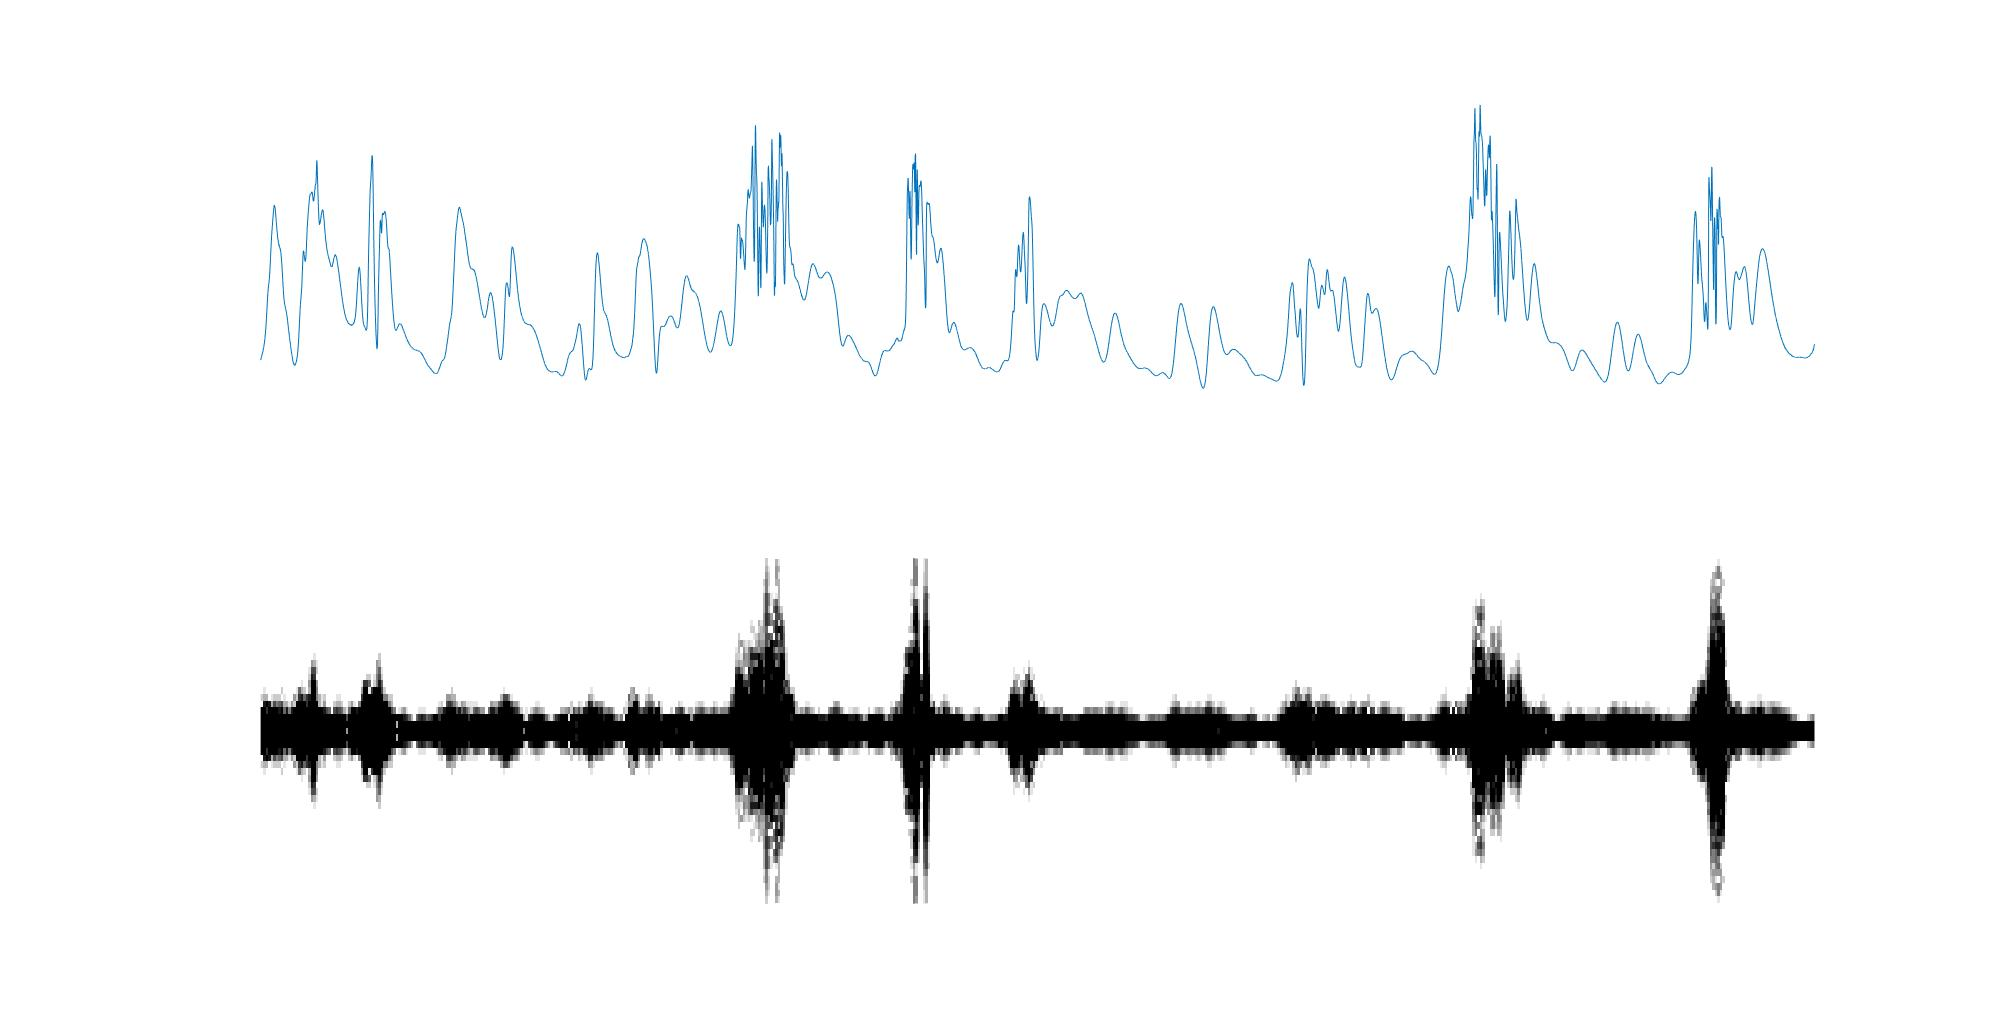spot: (729, 557, 797, 905), (1689, 568, 1736, 901), (1467, 603, 1524, 851), (898, 557, 938, 908)
